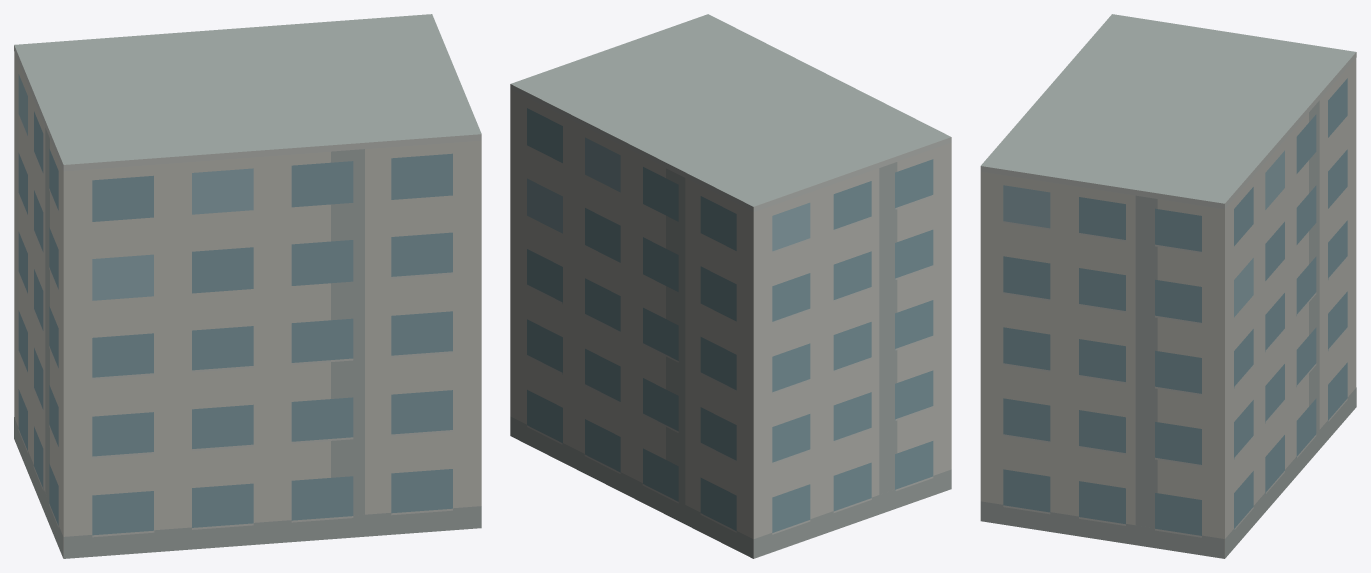
Rendered from residential-118ba26b-8842-4de2-88dd-7d3e4e6a4446.glb.
The picture shows the model from 3 angles, left to right: view 1: azimuth 30°, elevation 25°; view 2: azimuth 150°, elevation 25°; view 3: azimuth 270°, elevation 25°; orthographic projection. The views are drawn at different scales.
Visible parts, largest first — view 1: residential-118ba26b-8842-4de2-88dd-7d3e4e6a4446.tmp; view 2: residential-118ba26b-8842-4de2-88dd-7d3e4e6a4446.tmp; view 3: residential-118ba26b-8842-4de2-88dd-7d3e4e6a4446.tmp.
Boxes of the visible parts, x1=… form: residential-118ba26b-8842-4de2-88dd-7d3e4e6a4446.tmp: x1=14, y1=14, x2=481, y2=558; residential-118ba26b-8842-4de2-88dd-7d3e4e6a4446.tmp: x1=510, y1=14, x2=951, y2=558; residential-118ba26b-8842-4de2-88dd-7d3e4e6a4446.tmp: x1=980, y1=14, x2=1356, y2=558.
Size of the model in its own units: 17.48 by 15.25 by 14.64.
